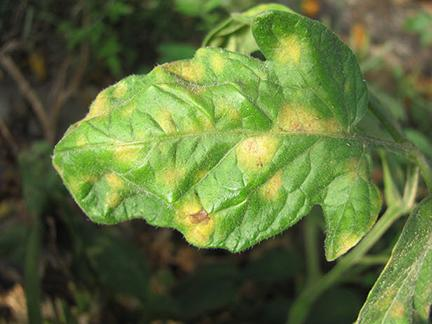Tomato mold leaf: (44, 8, 391, 266)
